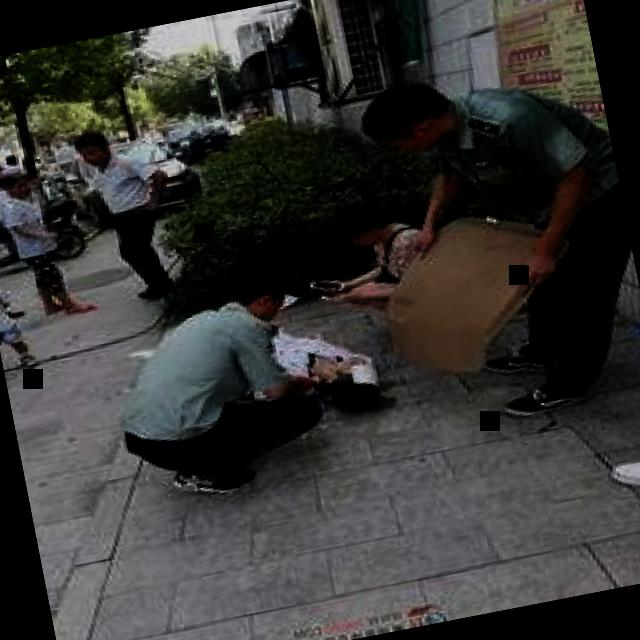Fall-Detected: (258, 283, 404, 426)
